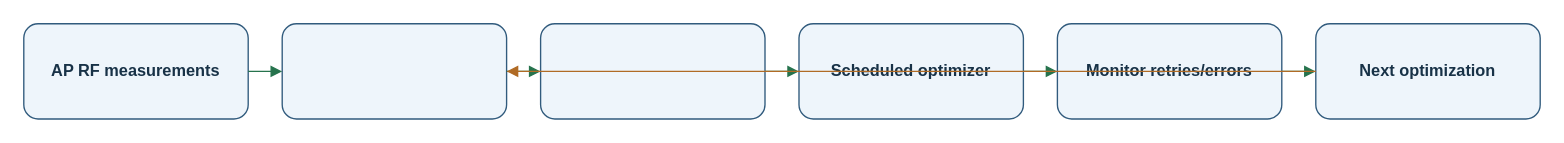
Image size: 1564x143. Some labels were removed from this diagram. The centre of each missing label's shape, as x and y in pixels:
ARRP density profile + weights: [394,70]
Candidate channel scoring: [652,70]
